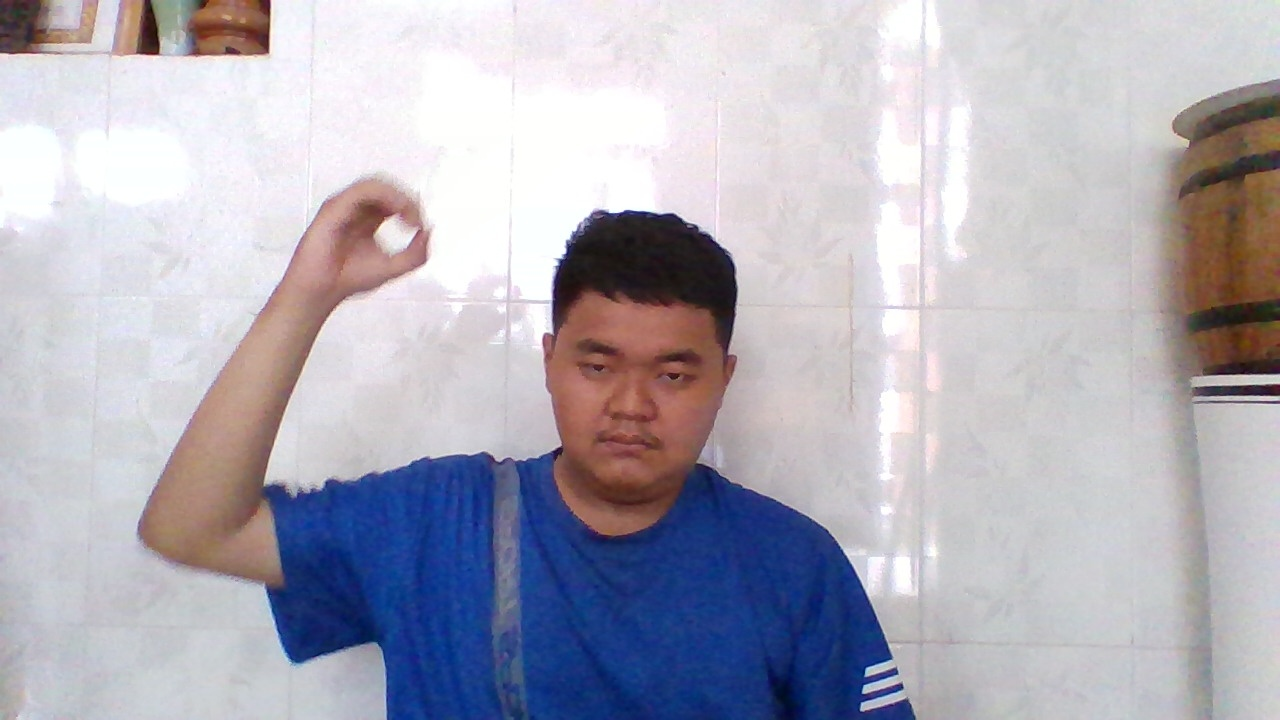O: (312, 167, 439, 302)
